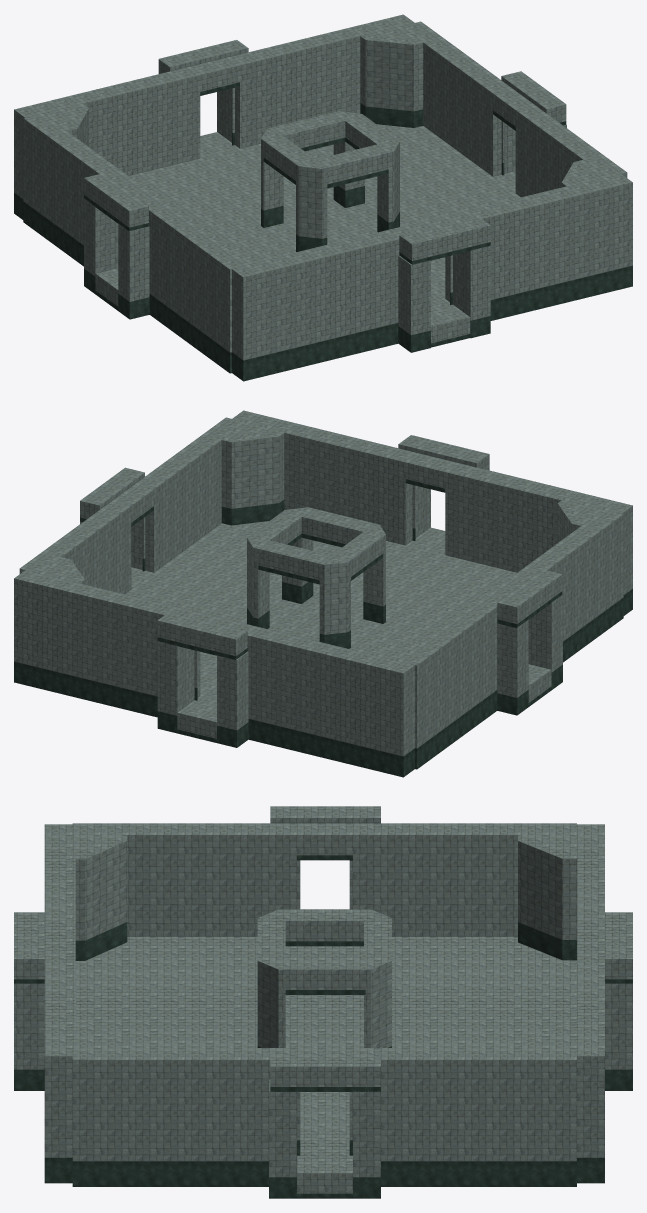
File: fourway.glb
The picture shows the model from 3 angles, top to bottom: view 1: azimuth 30°, elevation 25°; view 2: azimuth 150°, elevation 25°; view 3: azimuth 270°, elevation 25°; orthographic projection. The views are drawn at different scales.
Visible parts, largest first — view 1: block (×27), block_corner_large (×8); view 2: block (×27), block_corner_large (×8); view 3: block (×25), block_corner_large (×6).
Boxes of the visible parts, <box> form: block (×27): <box>14,14,632,381</box>; block_corner_large (×8): <box>43,26,606,265</box>; block (×27): <box>14,410,632,777</box>; block_corner_large (×8): <box>38,423,604,660</box>; block (×25): <box>14,806,632,1198</box>; block_corner_large (×6): <box>71,834,578,1048</box>.
Size of the model in its own units: 22 by 5.2 by 22.1.
Materials: 90 (90 with a texture image).
